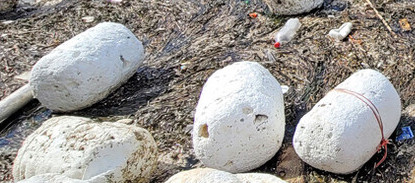buoy: (292, 67, 403, 173), (27, 19, 143, 111), (192, 59, 284, 170), (10, 117, 158, 182)
